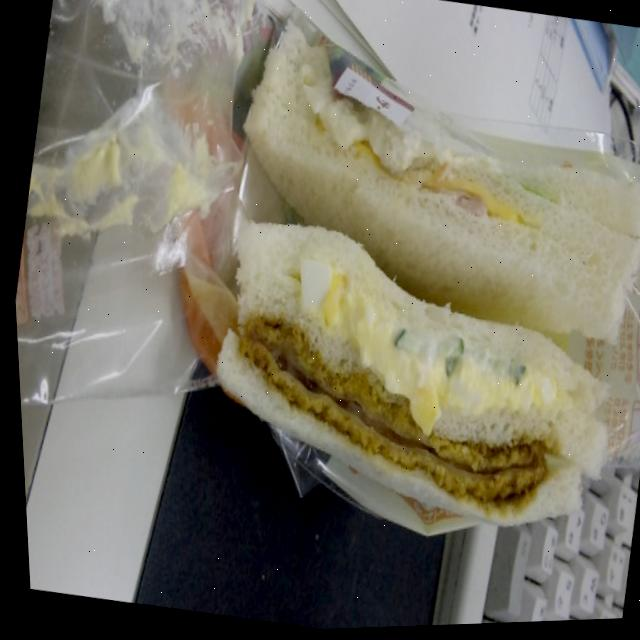三明治: (480, 56, 640, 488)
